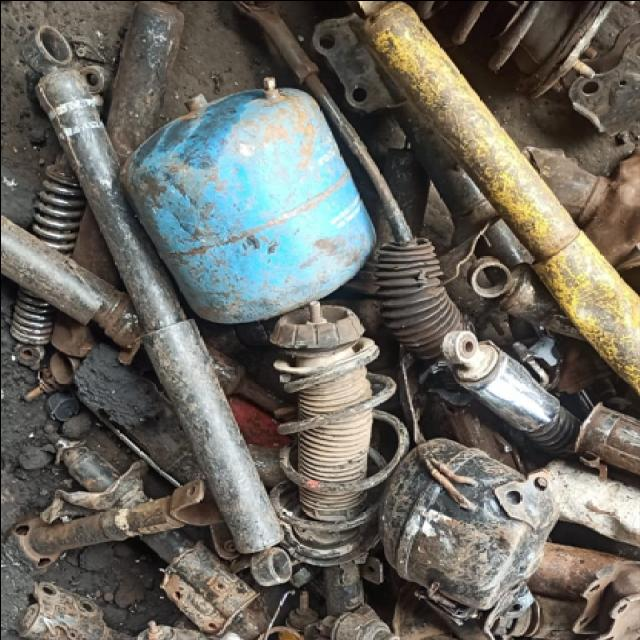cylinder: (118, 77, 375, 322)
shock absorber: (33, 67, 291, 585), (359, 1, 640, 393), (231, 1, 462, 363), (268, 300, 410, 617), (439, 331, 579, 459)
